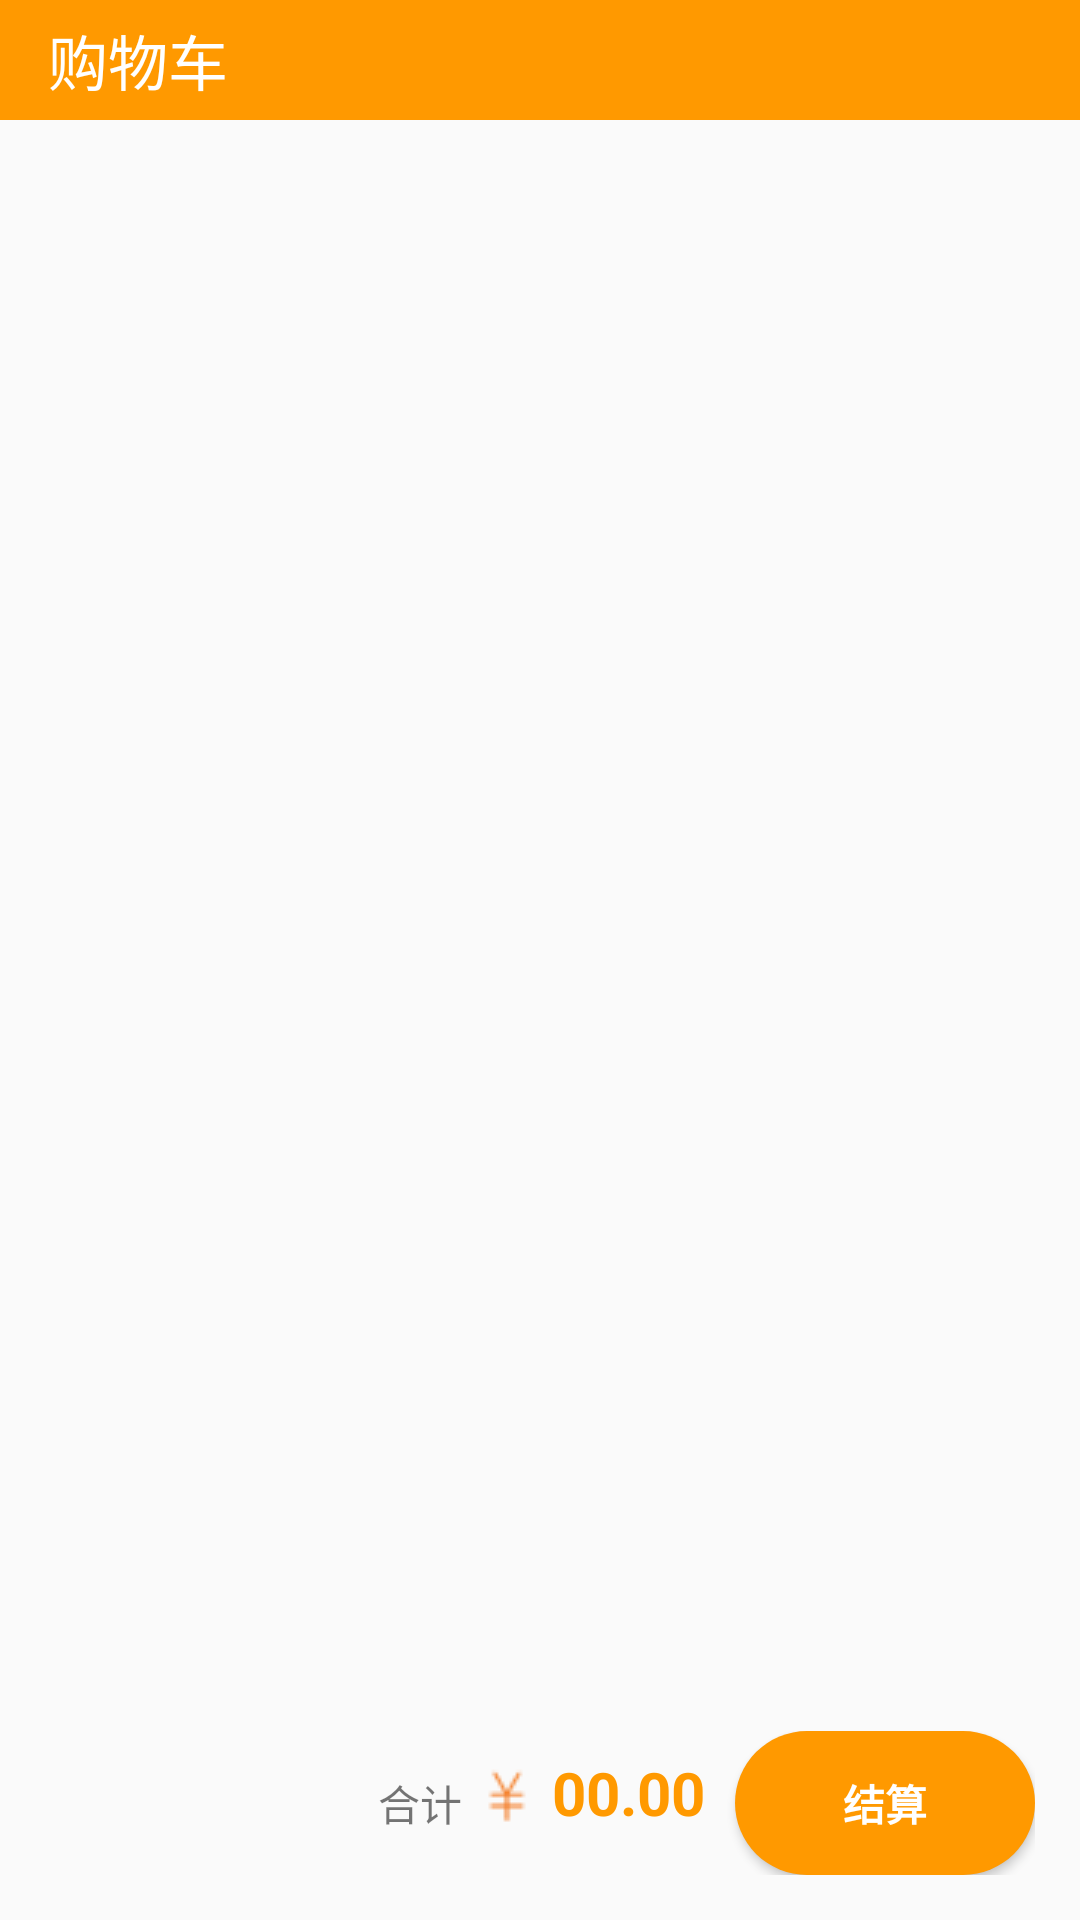

Named icons in this screenshot (1080w x 1920h) and their bounding boxes, (x1, y1, x2, y2):
money: (489, 1772, 525, 1822)
